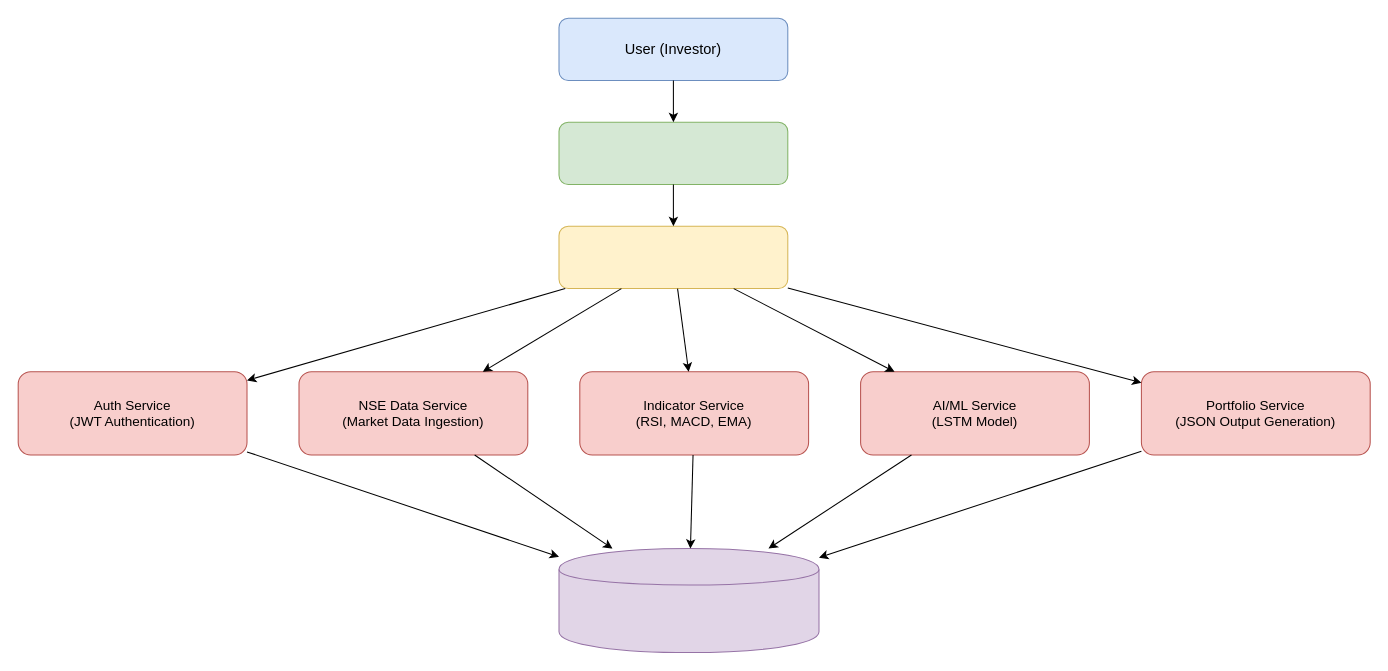
Some shapes in this 1388 by 671 pixel diagram are drawn without their labels. Each missing label, with the centre of its shape:
"API Gateway" goes at [673,257].
"PostgreSQL / MongoDB Database" goes at [688,600].
"React Frontend (UI)" goes at [673,153].
